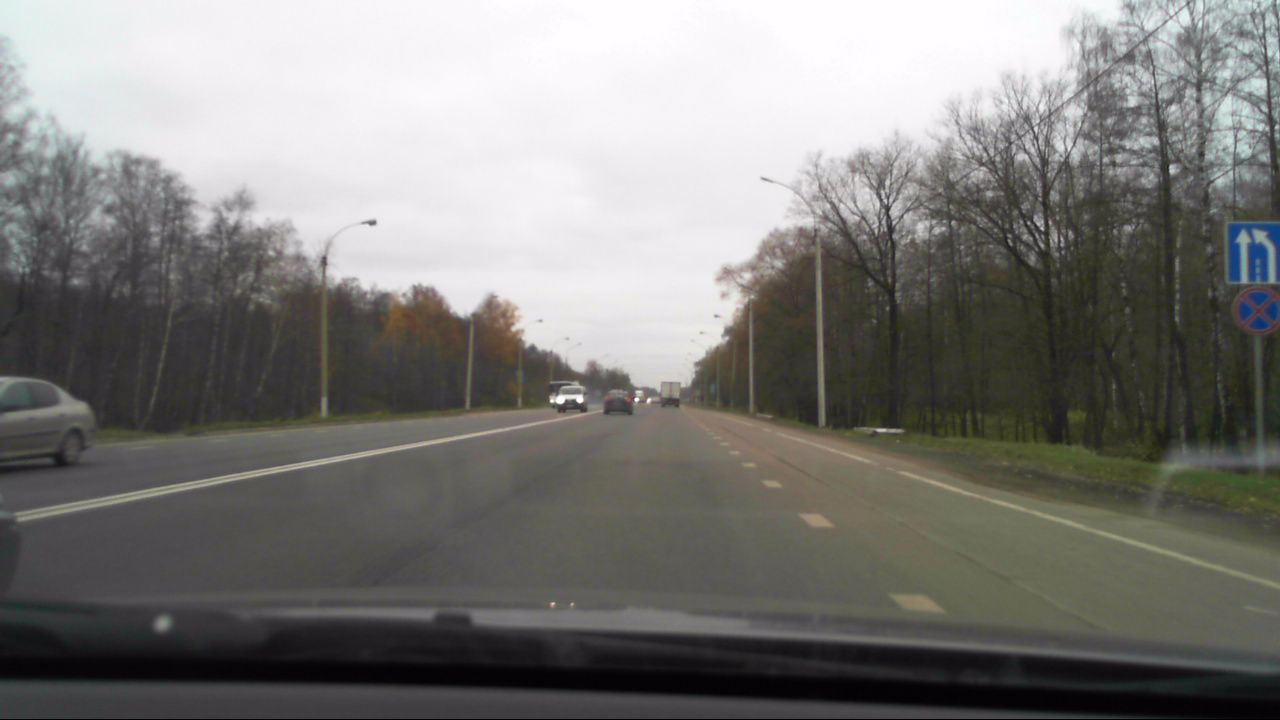No Parking: (1229, 283, 1279, 335)
